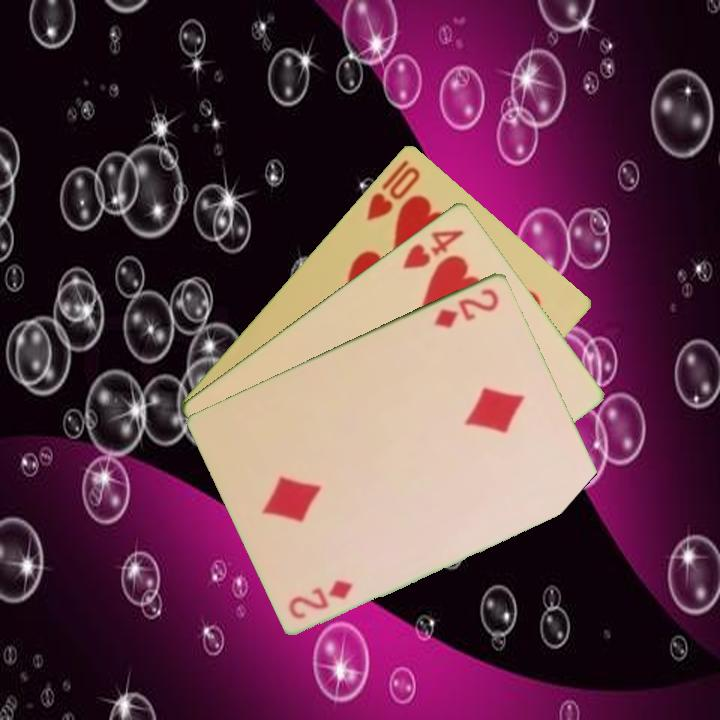10h: (363, 155, 423, 224)
2d: (430, 284, 502, 331), (285, 576, 356, 622)
4h: (398, 225, 467, 272)
